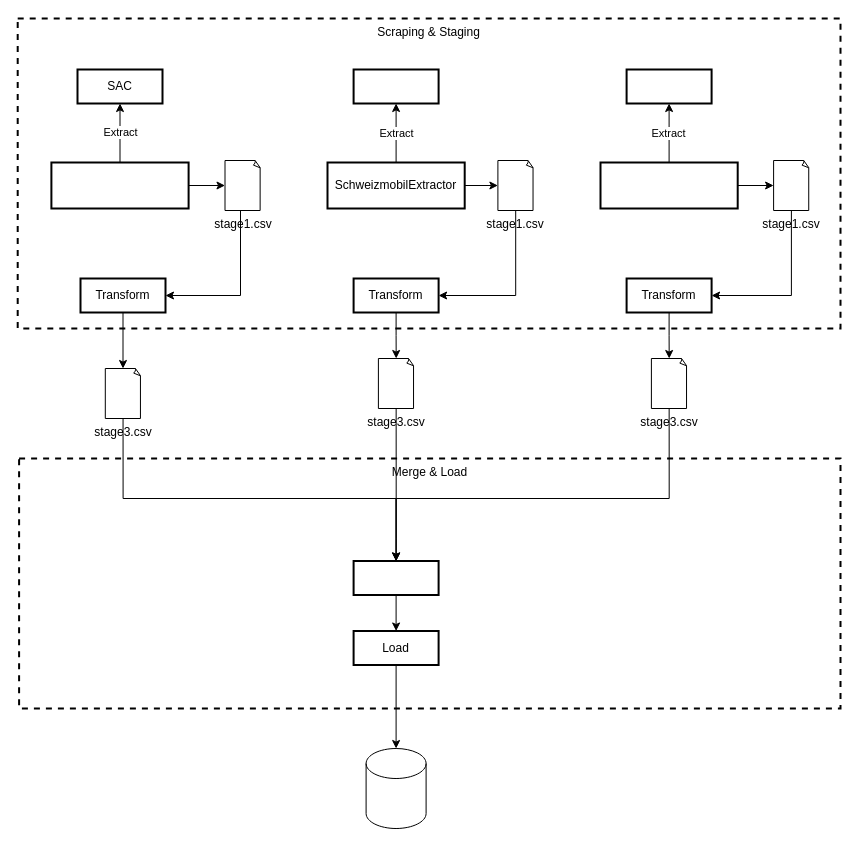
The diagram is 859 pixels wide and 846 high, and some of its shapes have lost their labels. The shapes that lost their labels are listed below. From the top down, each one's centre as x and y in pixels, then its label:
point 395,86: Schweizmobil
point 668,86: Komoot
point 119,185: SacExtractor
point 668,185: KomootExtractor
point 395,578: Merge Data
point 395,788: MariaDB
